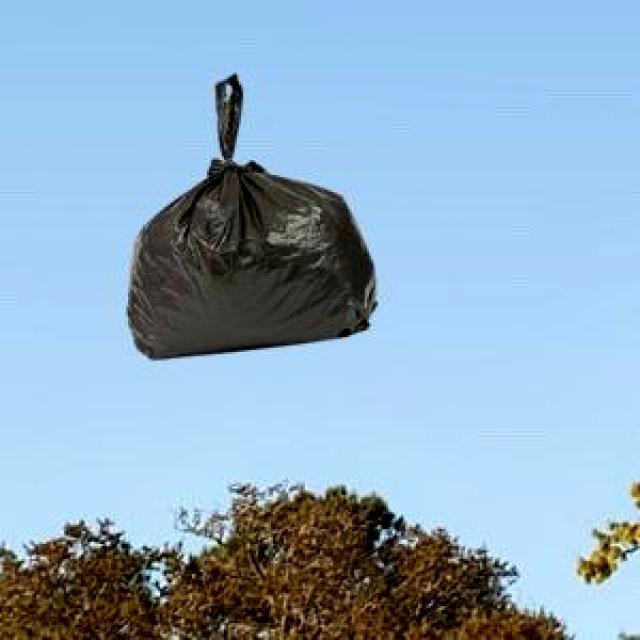Garbage_Bag: (124, 72, 374, 356)
